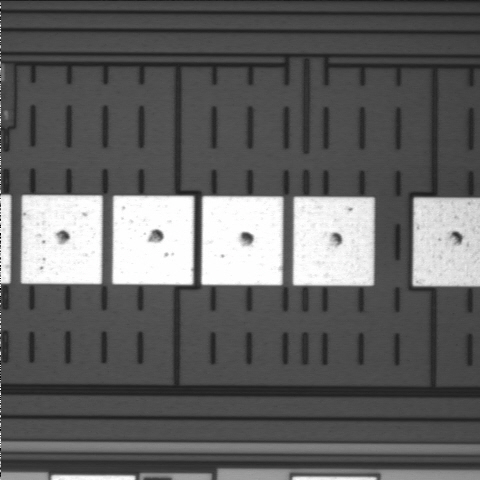pad: (112, 196, 194, 285), (201, 196, 283, 285), (21, 195, 102, 284), (293, 197, 374, 286)
